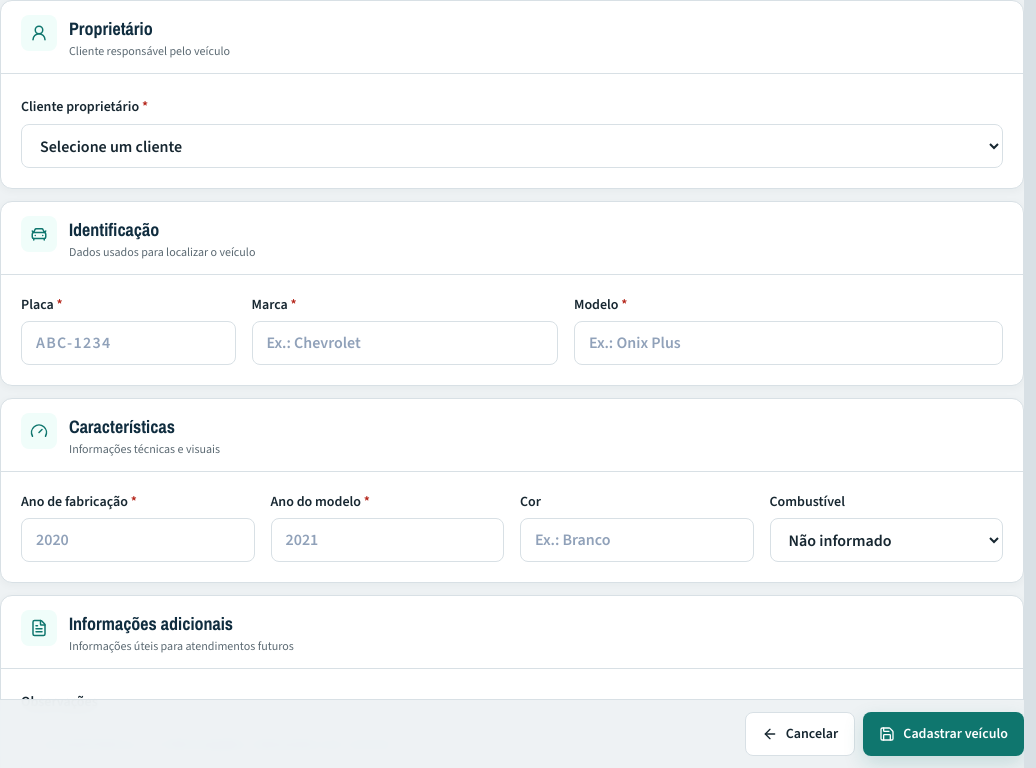
Test: formulário de veículos › apresenta as seções e valida campos obrigatórios
Expected: the heading "Proprietário" is shown, [69,16,153,41]
Expected: the heading "Identificação" is shown, [69,217,159,242]
Click the button "Cadastrar veículo" at x=944, y=734, box [863,712,1024,756]
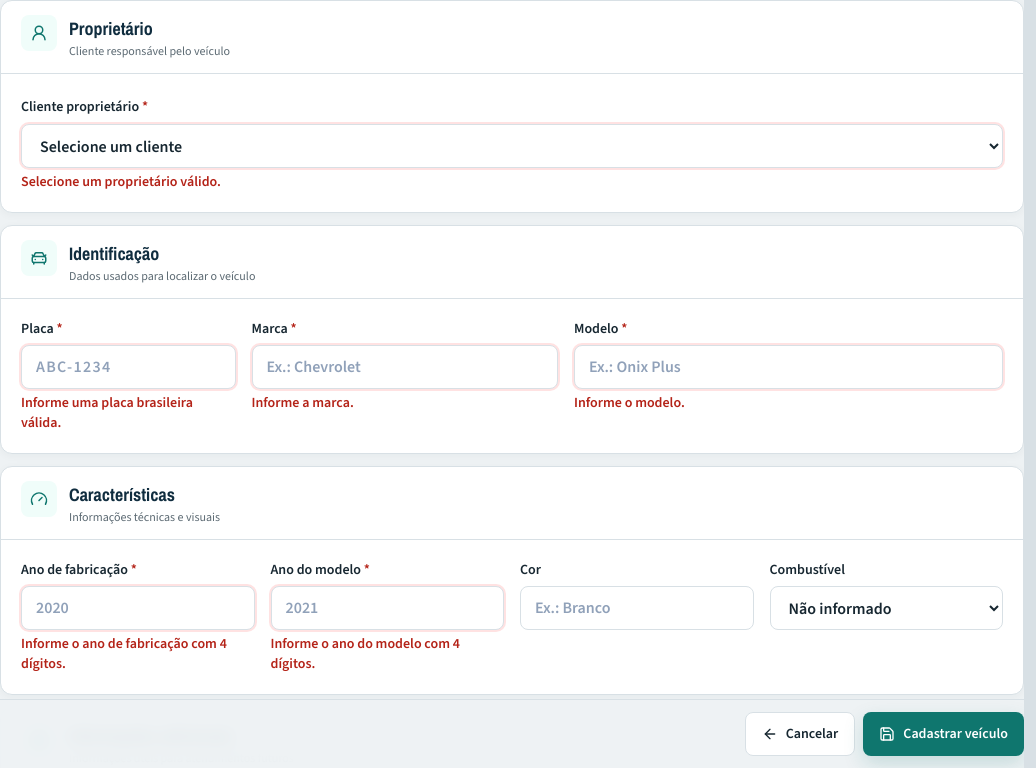
Now the text "Selecione um proprietário válido." is shown, box [21,172,221,191]
Now the text "Informe uma placa brasileira válida." is shown, box [21,393,193,432]
Now the text "Informe a marca." is shown, box [252,393,354,412]
